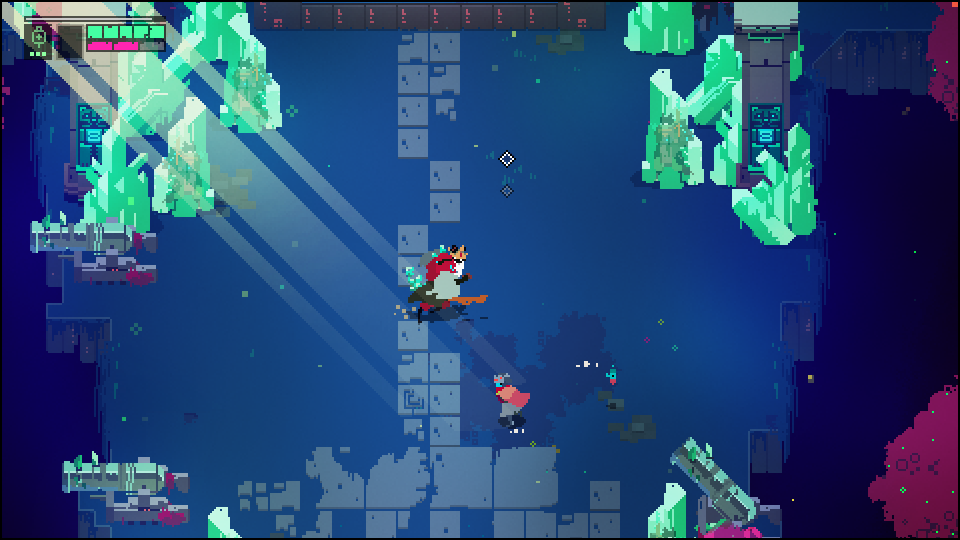hanged_man: (405, 236, 489, 322)
player: (492, 373, 533, 426)
